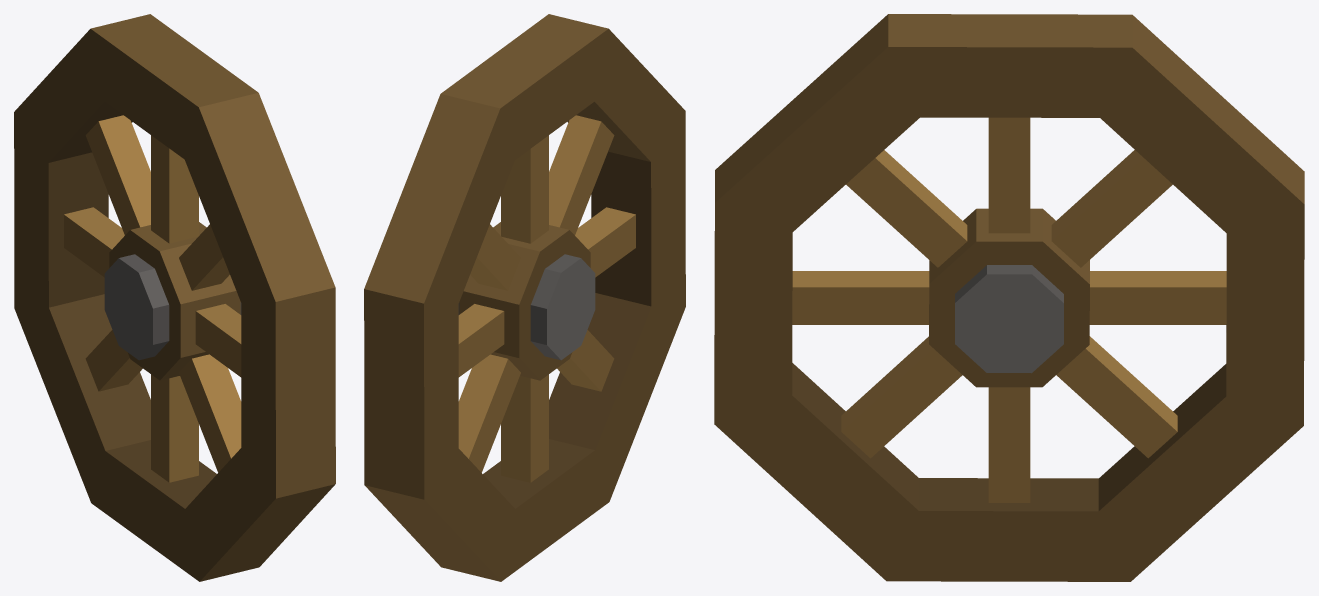
The model's file is Wheel_02.gltf.
3 renders of one model, left to right at view 1: azimuth 30°, elevation 25°; view 2: azimuth 150°, elevation 25°; view 3: azimuth 270°, elevation 25°, orthographic. The views are drawn at different scales.
Visible parts, largest first — view 1: SF_Prop_Wheel_02; view 2: SF_Prop_Wheel_02; view 3: SF_Prop_Wheel_02.
Part boxes in pixels (<box>): SF_Prop_Wheel_02: <box>14,14,335,581</box>; SF_Prop_Wheel_02: <box>364,14,685,581</box>; SF_Prop_Wheel_02: <box>714,14,1304,581</box>.
Size of the model in its own units: 0.00437 by 0.0213 by 0.0213.
1 material, 1 textured.
